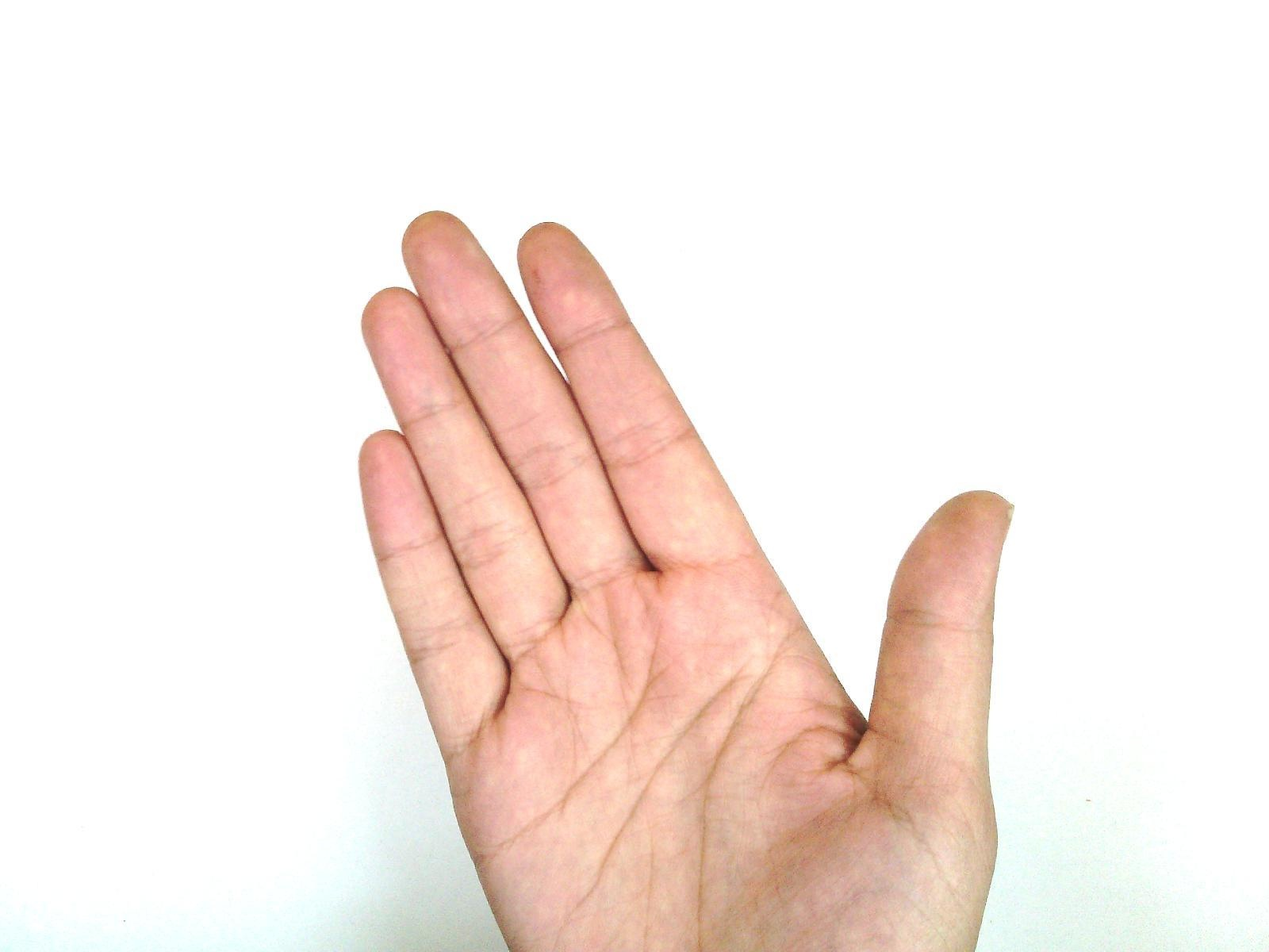open_palm: (354, 209, 1017, 952)
